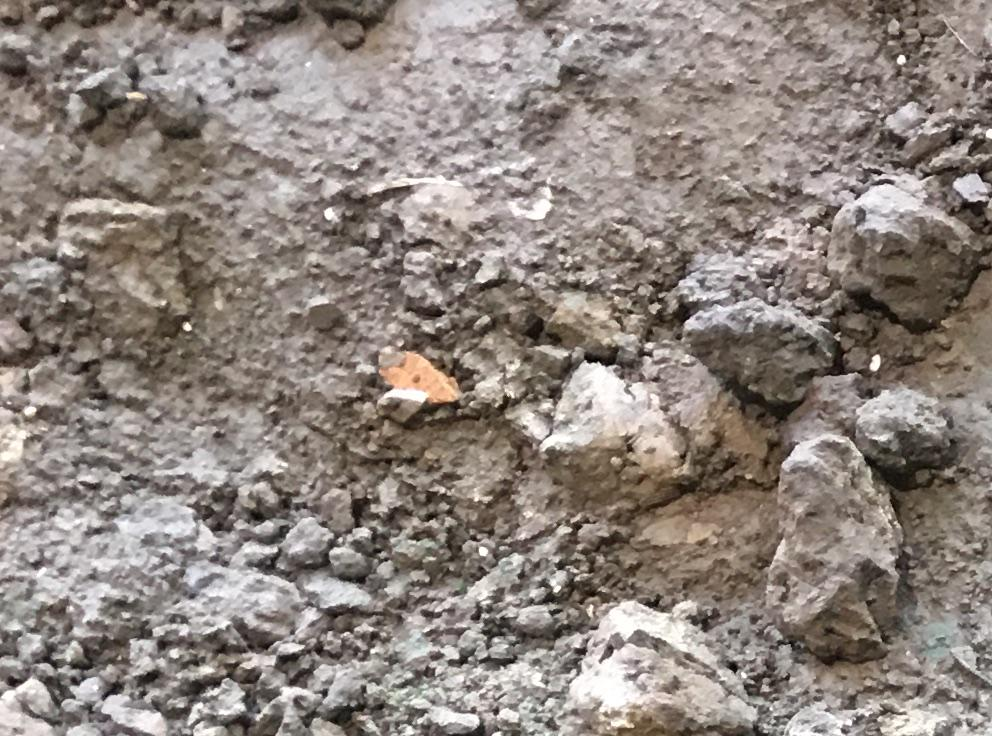block: (765, 434, 895, 660), (563, 604, 761, 728), (825, 183, 977, 329)
